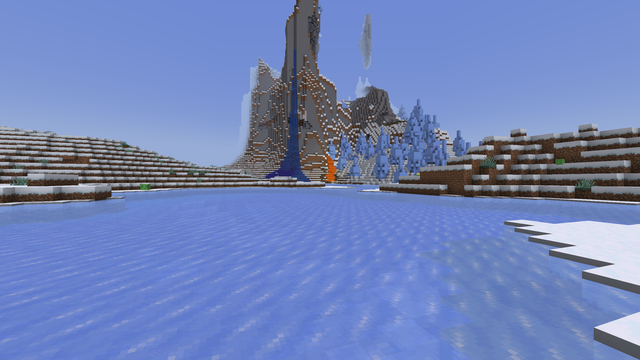slimes: (140, 183, 150, 190), (554, 158, 564, 164)
